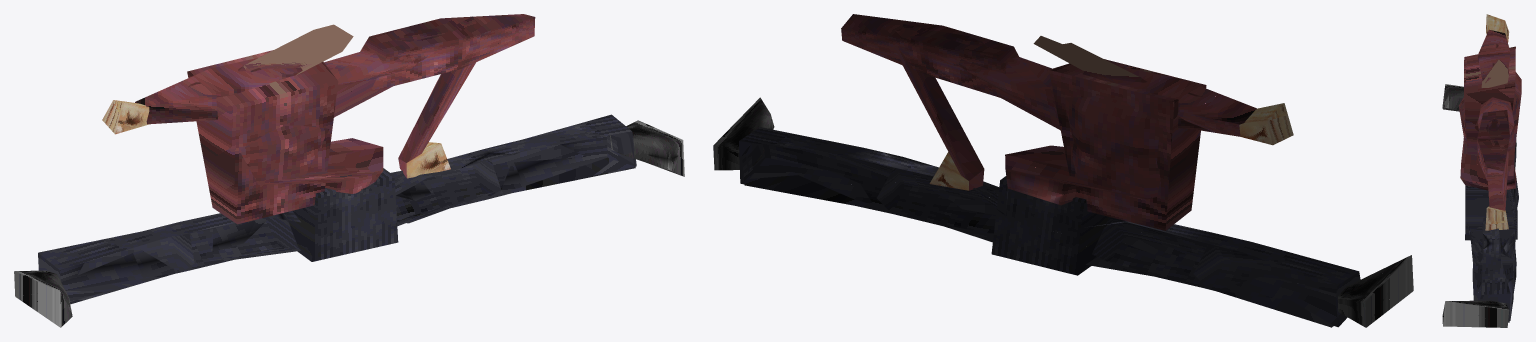
Rendered from CredmanZ.obj.
3 renders of one model, left to right at view 1: azimuth 30°, elevation 25°; view 2: azimuth 150°, elevation 25°; view 3: azimuth 270°, elevation 25°, orthographic. The views are drawn at different scales.
Size of the model in its own units: 2167 by 681 by 335.
Materials: 16 (16 with a texture image).
